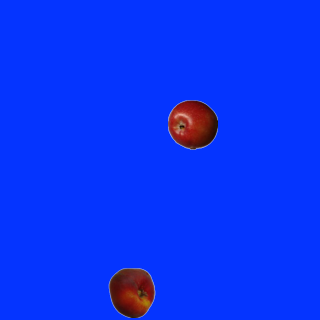Apple Braeburn: (167, 99, 217, 149)
Nectarine Flat: (106, 267, 156, 317)
